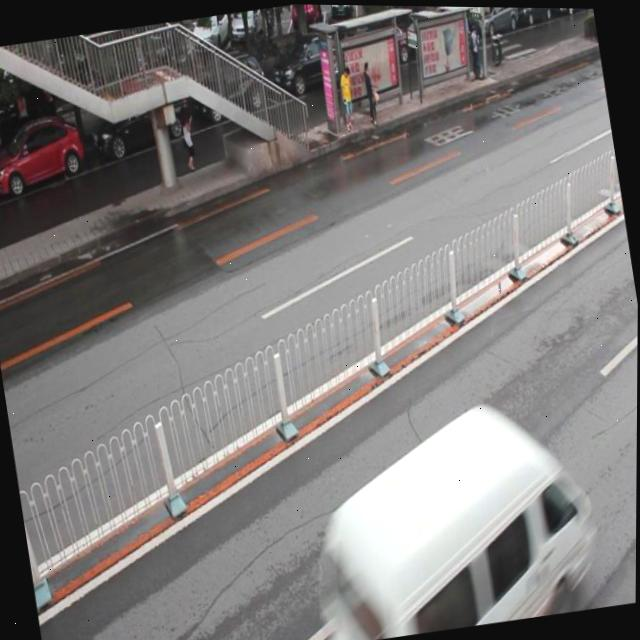car: (89, 83, 200, 158), (0, 116, 93, 197), (269, 28, 359, 102), (192, 50, 277, 128)
truck: (292, 383, 608, 640)
